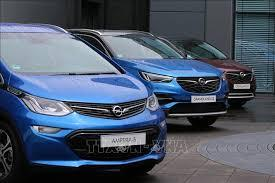opel: (110, 102, 127, 120), (195, 77, 211, 88), (238, 71, 247, 79)
